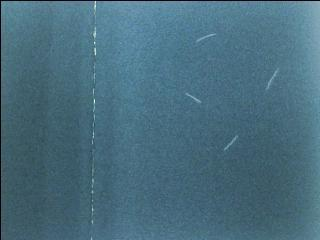crack: (82, 0, 105, 240)
scratch: (218, 129, 245, 155), (260, 64, 283, 94), (180, 86, 205, 110), (190, 28, 219, 48)
